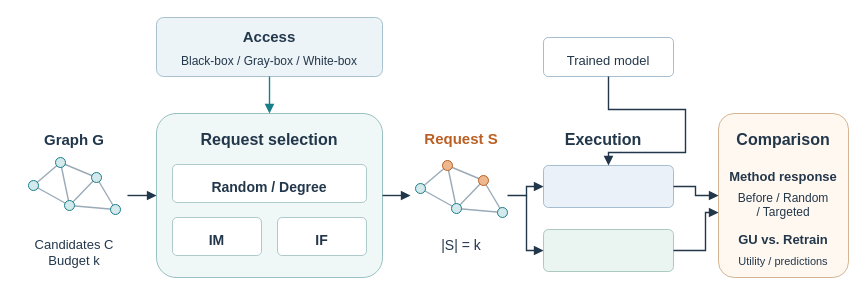
Image size: 866x295. Some labels were removed from this diagram. Here are the shapes that lost their labels. From the top down, the centre of each, then its label:
point (608, 186): GU method M
point (608, 250): Full retrain
